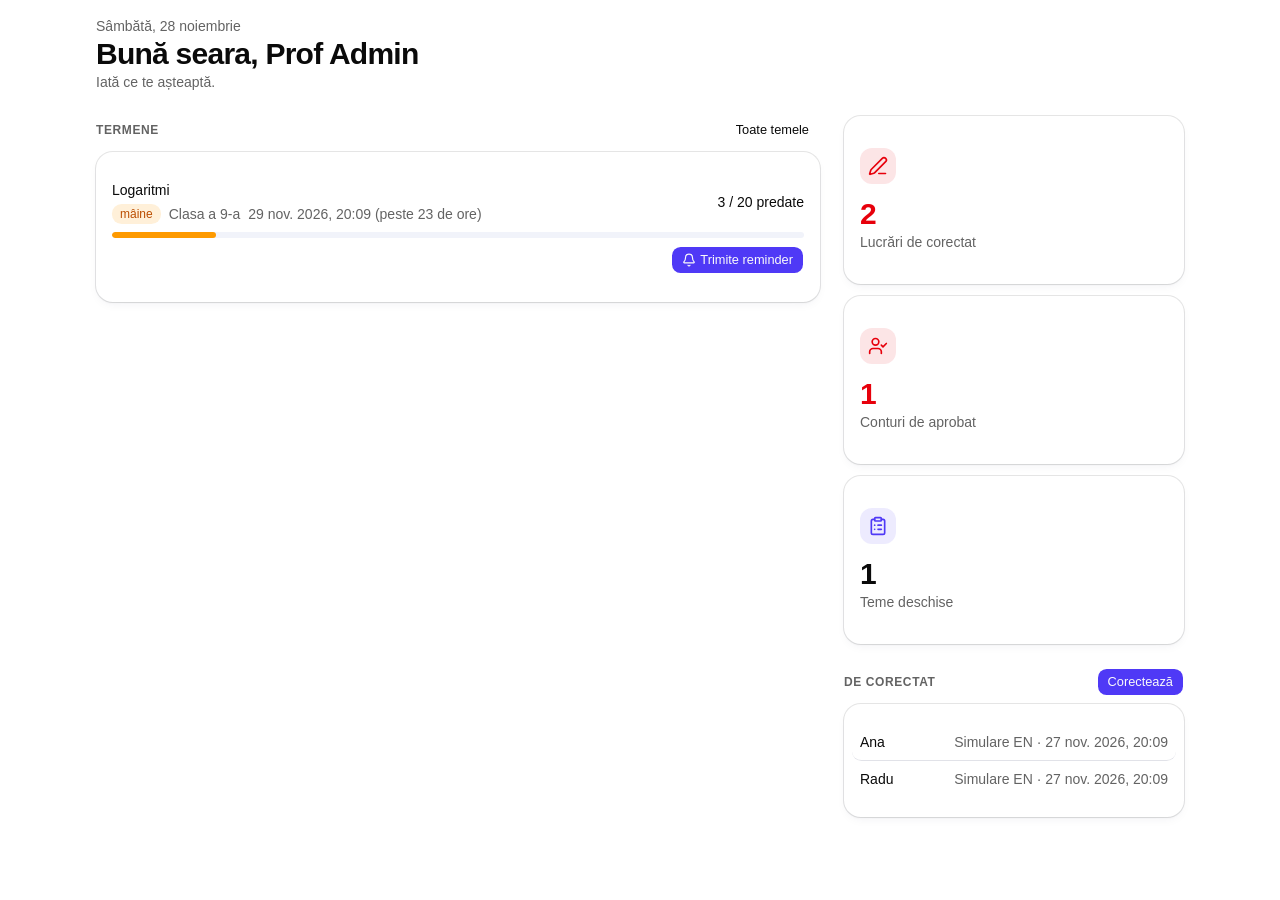
Scenario: DashboardPage — teacher › "Trimite reminder" › emails the students who have not handed in, after a yes, and says how many got it
Click the button "Trimite reminder".
click(738, 260)  # box [671,246,804,274]
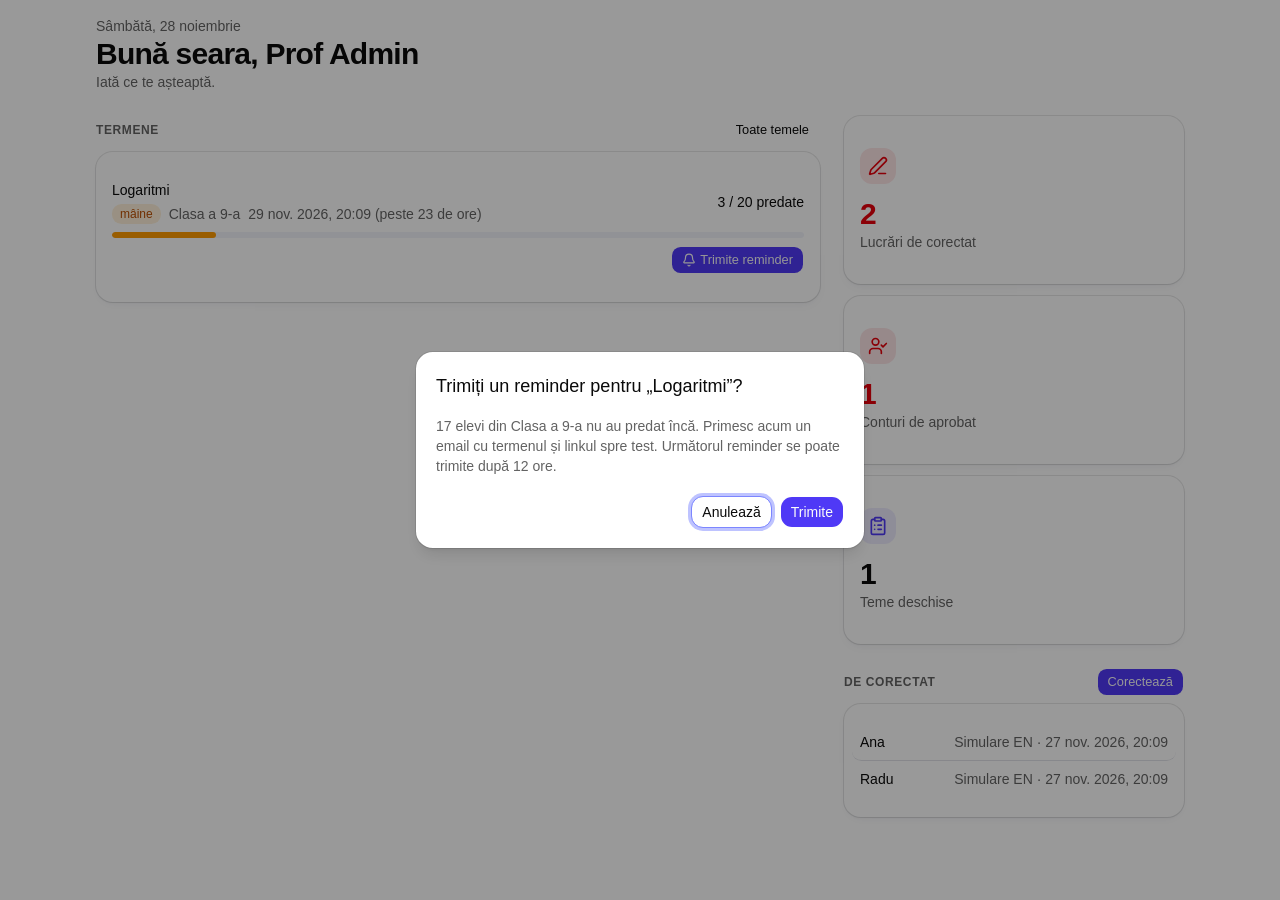
Expected: the dialog "Trimiți un reminder pentru „Logaritmi”?" shows "17 elevi din Clasa a 9-a nu au predat încă.", [436,418,840,474]
Click the button "Trimite".
click(812, 512)  # box [780,496,844,528]
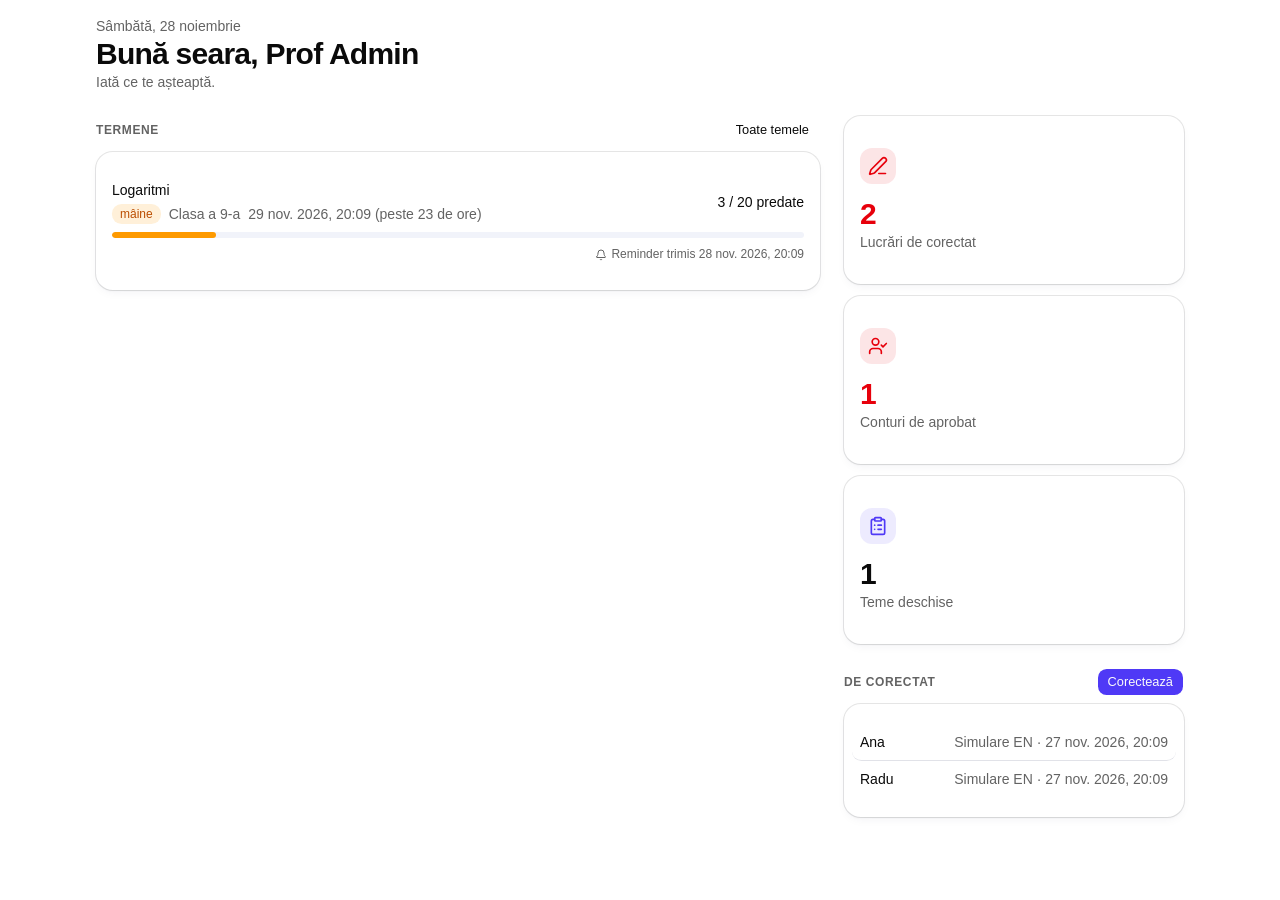
Expected: the element with test id "reminder-sent" shows "Reminder trimis", [611,247,699,261]
Expected: the button "Trimite reminder" is gone
